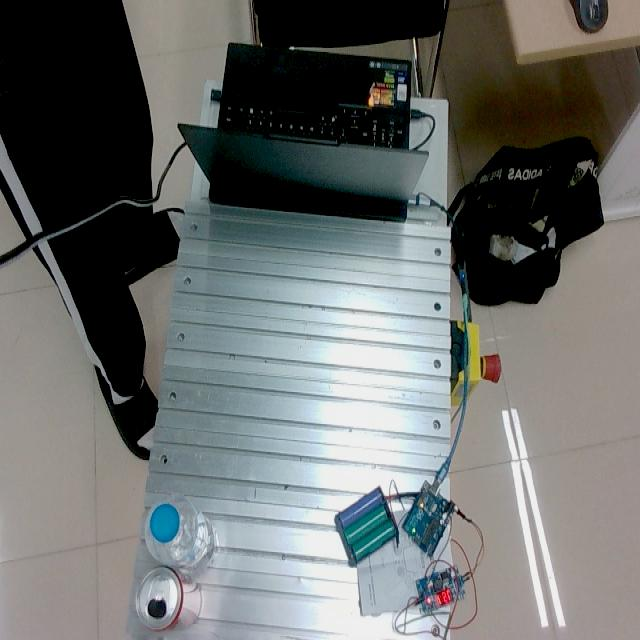coca: (136, 566, 188, 630)
lavie: (145, 492, 217, 577)
